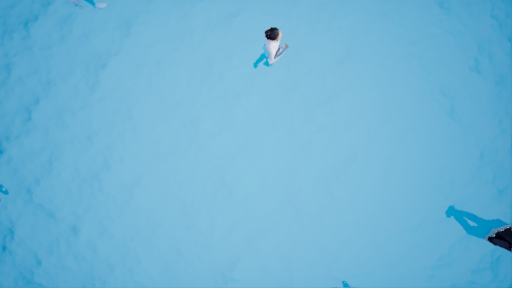person: (444, 201, 512, 249), (250, 21, 292, 74)
